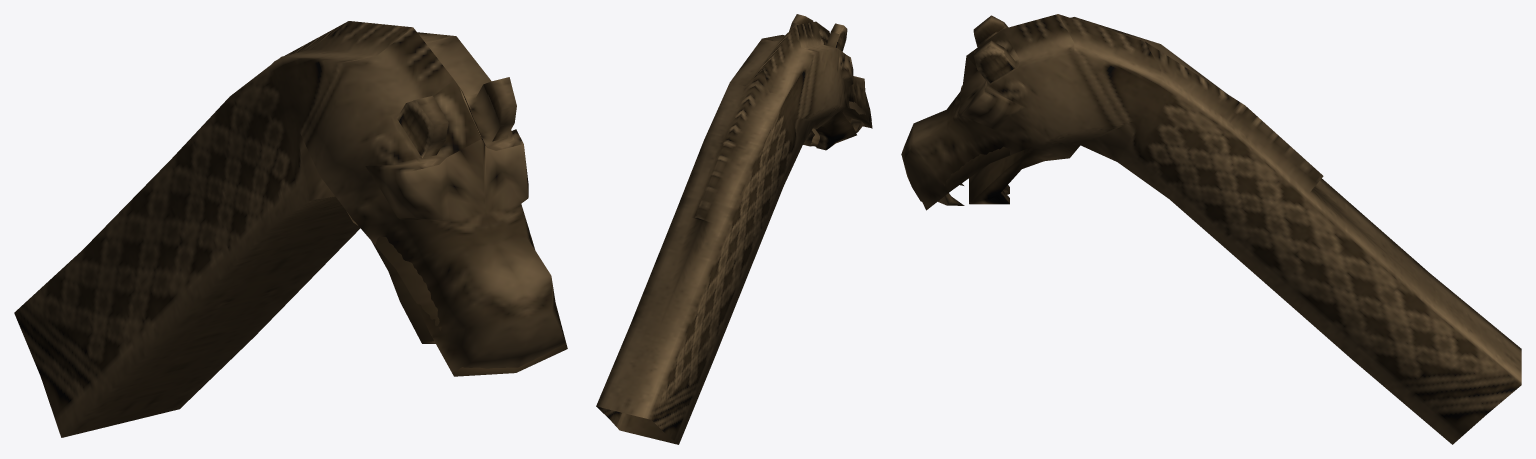
File: germ_boat_head.dae
The picture shows the model from 3 angles, left to right: view 1: azimuth 30°, elevation 25°; view 2: azimuth 150°, elevation 25°; view 3: azimuth 270°, elevation 25°; orthographic projection. The views are drawn at different scales.
Visible parts, largest first — view 1: boat_germ_head; view 2: boat_germ_head; view 3: boat_germ_head.
Boxes of the visible parts, left/top/right/bottom form: boat_germ_head: left=14, top=21, right=567, bottom=437; boat_germ_head: left=596, top=14, right=872, bottom=444; boat_germ_head: left=901, top=14, right=1521, bottom=444.
Bounding box in the file's own units: 0.5688 × 2.61 × 1.91.
